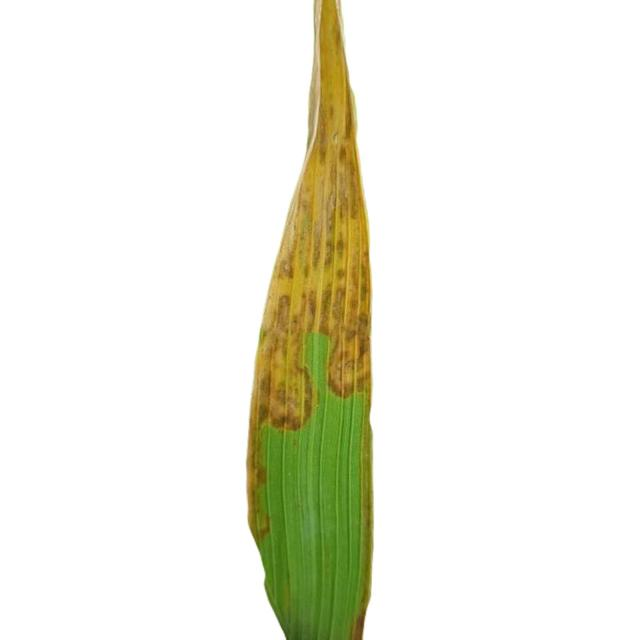Leaf scald: (191, 1, 430, 640)
